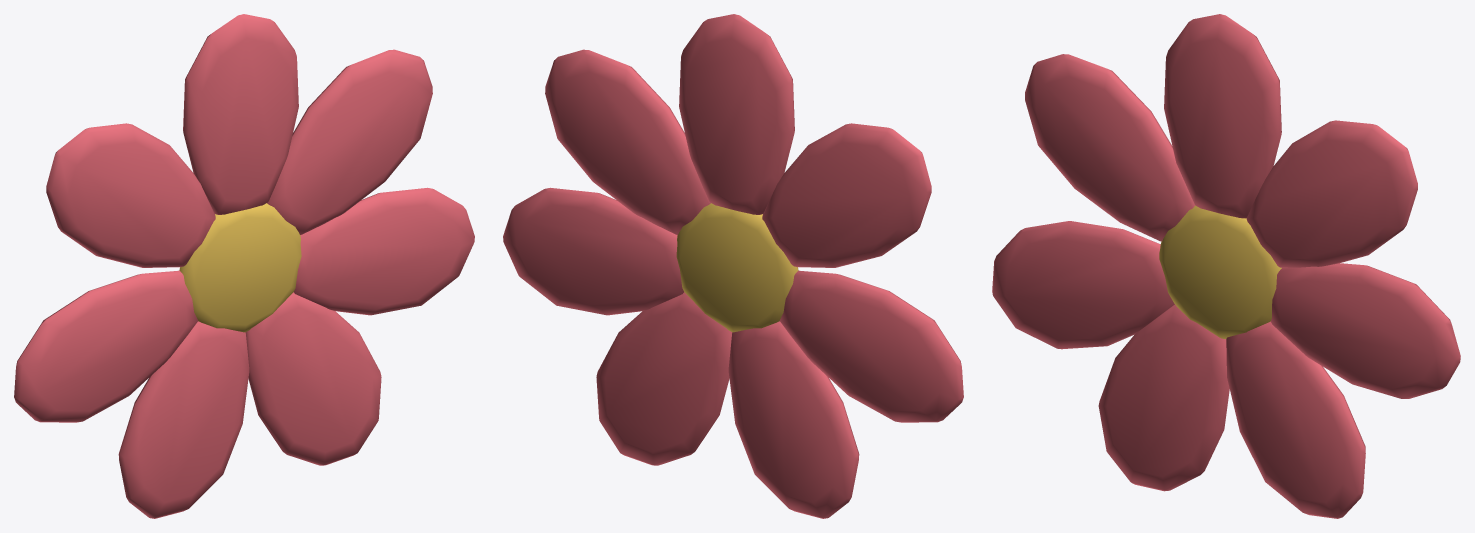
The model's file is Wandblume.fbx.
3 renders of one model, left to right at view 1: azimuth 30°, elevation 25°; view 2: azimuth 150°, elevation 25°; view 3: azimuth 330°, elevation 25°, orthographic.
Visible parts, largest first — view 1: Wandblume; view 2: Wandblume; view 3: Wandblume.
Part boxes in pixels (x1,y1,x2,y2): Wandblume: (14,14,474,518); Wandblume: (503,14,963,518); Wandblume: (992,14,1460,518).
Size of the model in its own units: 92.75 by 92.93 by 3.88.
